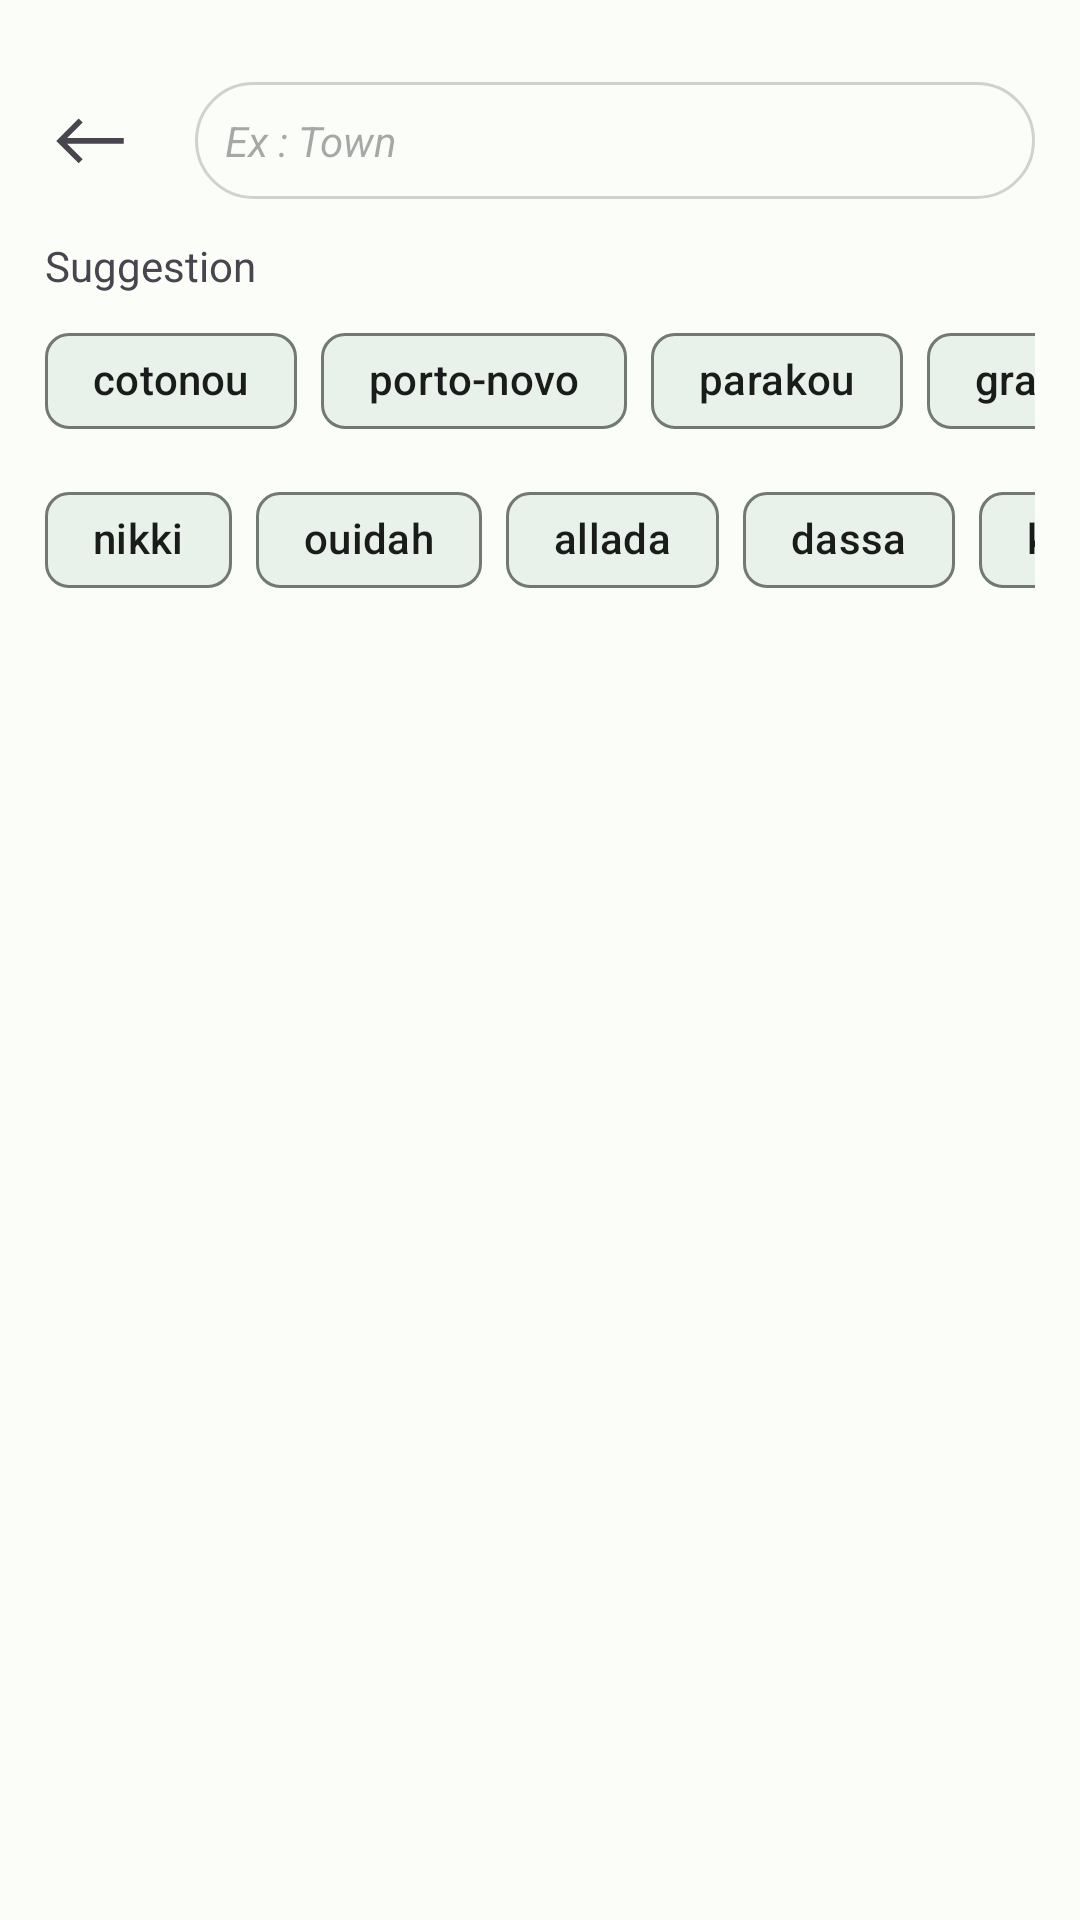

Locate icon controls on the screen. Image size 1080*1920, boxes as (x1, y1, x2, y2).
keyboard backspace: (56, 118, 124, 163)
